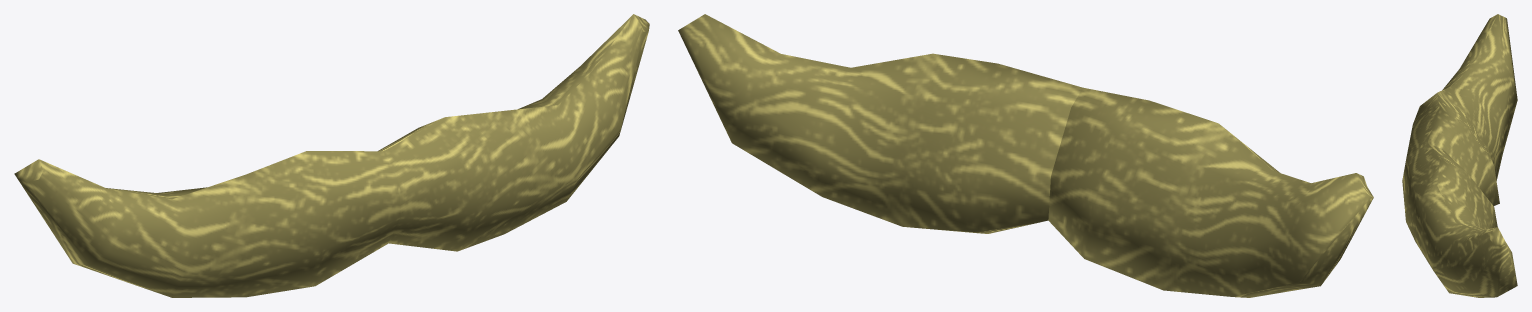
File: detective_moustache.fbx
The picture shows the model from 3 angles, left to right: view 1: azimuth 30°, elevation 25°; view 2: azimuth 150°, elevation 25°; view 3: azimuth 270°, elevation 25°; orthographic projection. The views are drawn at different scales.
Visible parts, largest first — view 1: polySurface72; view 2: polySurface72; view 3: polySurface72.
Part boxes in pixels (x1=…): polySurface72: x1=14, y1=14, x2=649, y2=297; polySurface72: x1=678, y1=14, x2=1373, y2=297; polySurface72: x1=1402, y1=14, x2=1517, y2=297.
Size of the model in its own units: 10.66 by 2.66 by 2.3.
